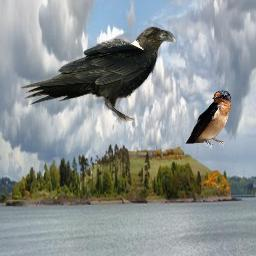Crow: (19, 25, 178, 124)
Swallow: (185, 90, 231, 149)
